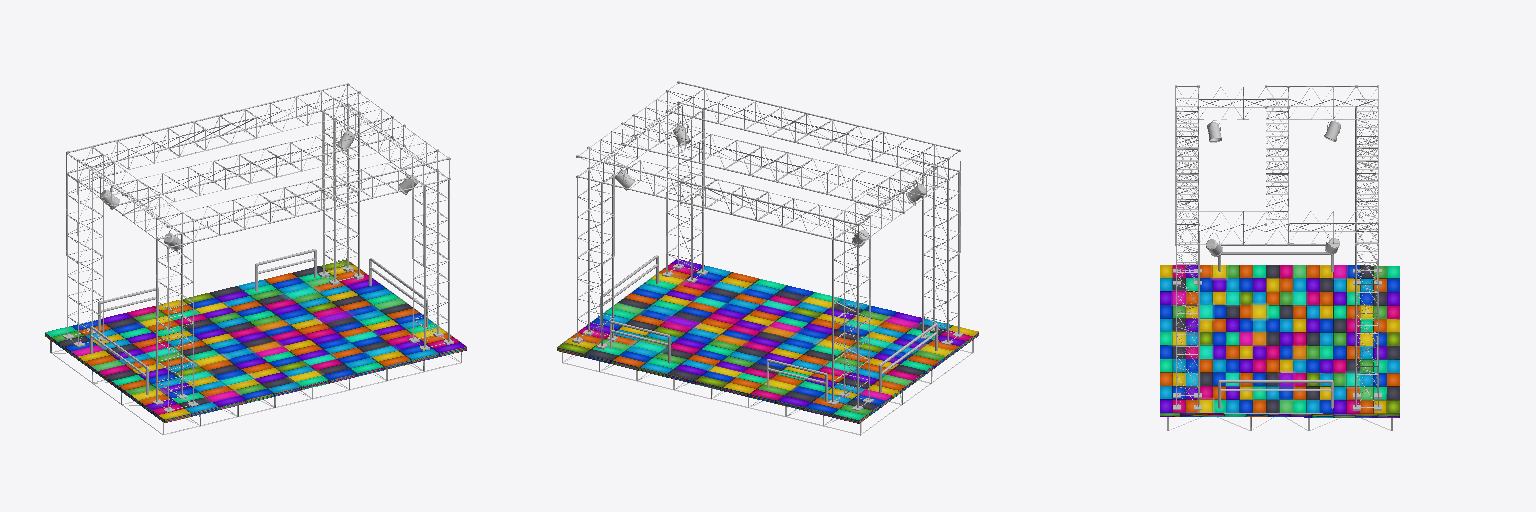
3 renders of one model, left to right at view 1: azimuth 30°, elevation 25°; view 2: azimuth 150°, elevation 25°; view 3: azimuth 270°, elevation 25°, orthographic.
Visible parts, largest first — view 1: Floor, Cube.005_Cube.016, Cube.007_Cube.018, Cube.004_Cube.015, Cube.003_Cube.014, Cube.002_Cube.013, Cube.011_Cube.022, Cube.010_Cube.021, Cube.006_Cube.017, Cube.001_Cube.012, Cube.008_Cube.019, Cube.013_Cube.002 (+3 smaller); view 2: Floor, Cube.005_Cube.016, Cube.004_Cube.015, Cube.007_Cube.018, Cube.002, Cube.011_Cube.022, Cube.003_Cube.014, Cube.002_Cube.013, Cube.001_Cube.012, Cube.006_Cube.017, Cube.008_Cube.019, Cube.010_Cube.021 (+3 smaller); view 3: Floor, Cube.005_Cube.016, Cube.057, Cube.004_Cube.015, Cube.011_Cube.022, Cube.008_Cube.019, Cube.002, Cube.006_Cube.017, Cube.009_Cube.020, Cube.056.
Boxes of the visible parts, x1=… form: Floor: x1=45, y1=259, x2=466, y2=422; Cube.005_Cube.016: x1=67, y1=147, x2=181, y2=238; Cube.007_Cube.018: x1=188, y1=118, x2=402, y2=193; Cube.004_Cube.015: x1=324, y1=87, x2=437, y2=175; Cube.003_Cube.014: x1=66, y1=104, x2=281, y2=181; Cube.002_Cube.013: x1=144, y1=85, x2=358, y2=162; Cube.011_Cube.022: x1=412, y1=171, x2=448, y2=346; Cube.010_Cube.021: x1=156, y1=233, x2=192, y2=409; Cube.006_Cube.017: x1=111, y1=137, x2=327, y2=213; Cube.001_Cube.012: x1=66, y1=170, x2=102, y2=343; Cube.008_Cube.019: x1=233, y1=151, x2=449, y2=228; Cube.013_Cube.002: x1=121, y1=352, x2=461, y2=434; Floor: x1=557, y1=259, x2=978, y2=423; Cube.005_Cube.016: x1=834, y1=153, x2=948, y2=244; Cube.004_Cube.015: x1=579, y1=91, x2=693, y2=181; Cube.007_Cube.018: x1=622, y1=116, x2=838, y2=192; Cube.002: x1=578, y1=168, x2=614, y2=345; Cube.011_Cube.022: x1=666, y1=103, x2=704, y2=279; Cube.003_Cube.014: x1=654, y1=167, x2=870, y2=245; Cube.002_Cube.013: x1=579, y1=149, x2=793, y2=227; Cube.001_Cube.012: x1=834, y1=231, x2=870, y2=407; Cube.006_Cube.017: x1=699, y1=135, x2=914, y2=211; Cube.008_Cube.019: x1=667, y1=83, x2=883, y2=160; Cube.010_Cube.021: x1=924, y1=165, x2=960, y2=341; Floor: x1=1160, y1=265, x2=1399, y2=417; Cube.005_Cube.016: x1=1199, y1=86, x2=1376, y2=119; Cube.057: x1=1218, y1=380, x2=1333, y2=408; Cube.004_Cube.015: x1=1199, y1=211, x2=1378, y2=244; Cube.011_Cube.022: x1=1176, y1=233, x2=1198, y2=406; Cube.008_Cube.019: x1=1175, y1=127, x2=1198, y2=244; Cube.002: x1=1356, y1=231, x2=1378, y2=407; Cube.006_Cube.017: x1=1266, y1=86, x2=1288, y2=204; Cube.009_Cube.020: x1=1176, y1=86, x2=1198, y2=198; Cube.056: x1=1218, y1=244, x2=1333, y2=271.
Size of the model in its own units: 19.39 by 12.54 by 13.34.
10 materials, 1 textured.